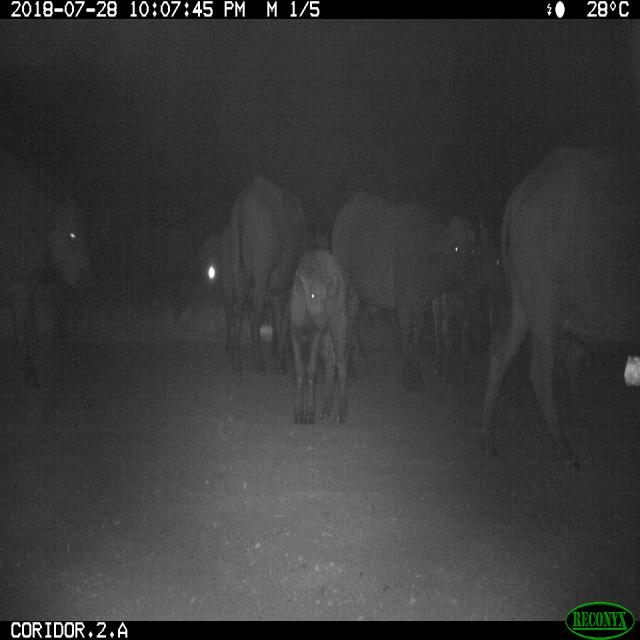buffalo: (219, 180, 489, 427)
